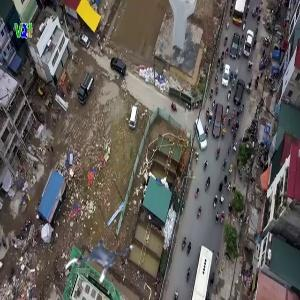drone: (66, 230, 131, 295)
